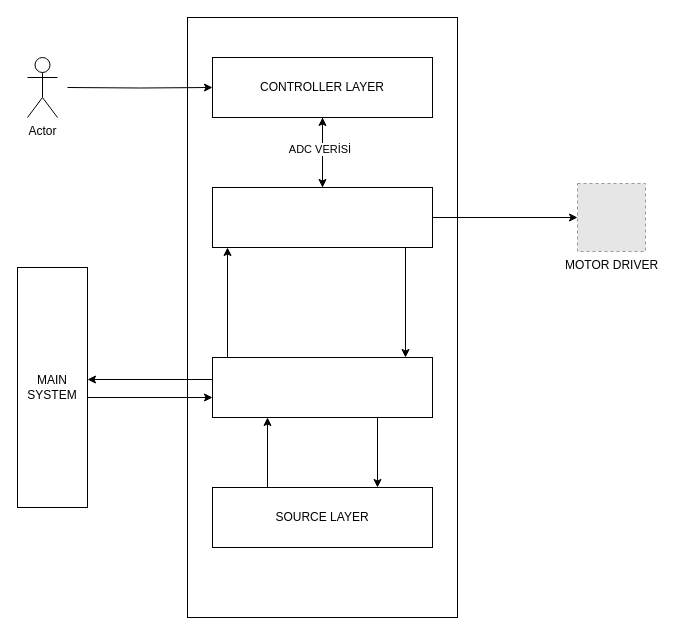
Some shapes in this 675 by 635 pixel diagram are drawn without their labels. Grey dashed boxes stand in for pictures. The shapes that lost their labels are listed below. From the top down, each one's box as (x1, y1, x2, y2) in pixels, then its label:
(212, 186, 432, 248): APPLICATION LAYER
(186, 16, 458, 618): ACCELARATOR SYSTEM
(212, 356, 432, 418): INTERFACE LAYER
